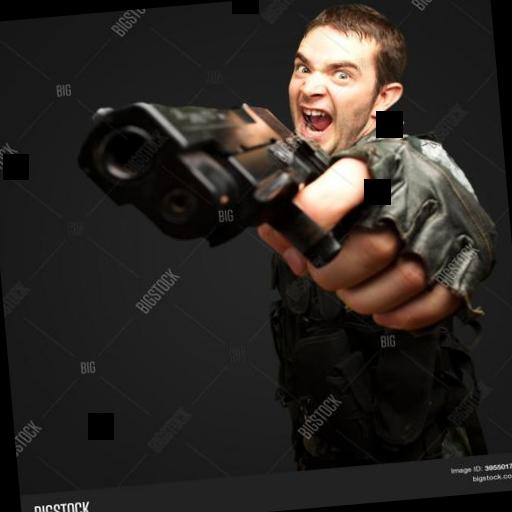Handgun: (55, 79, 355, 286)
